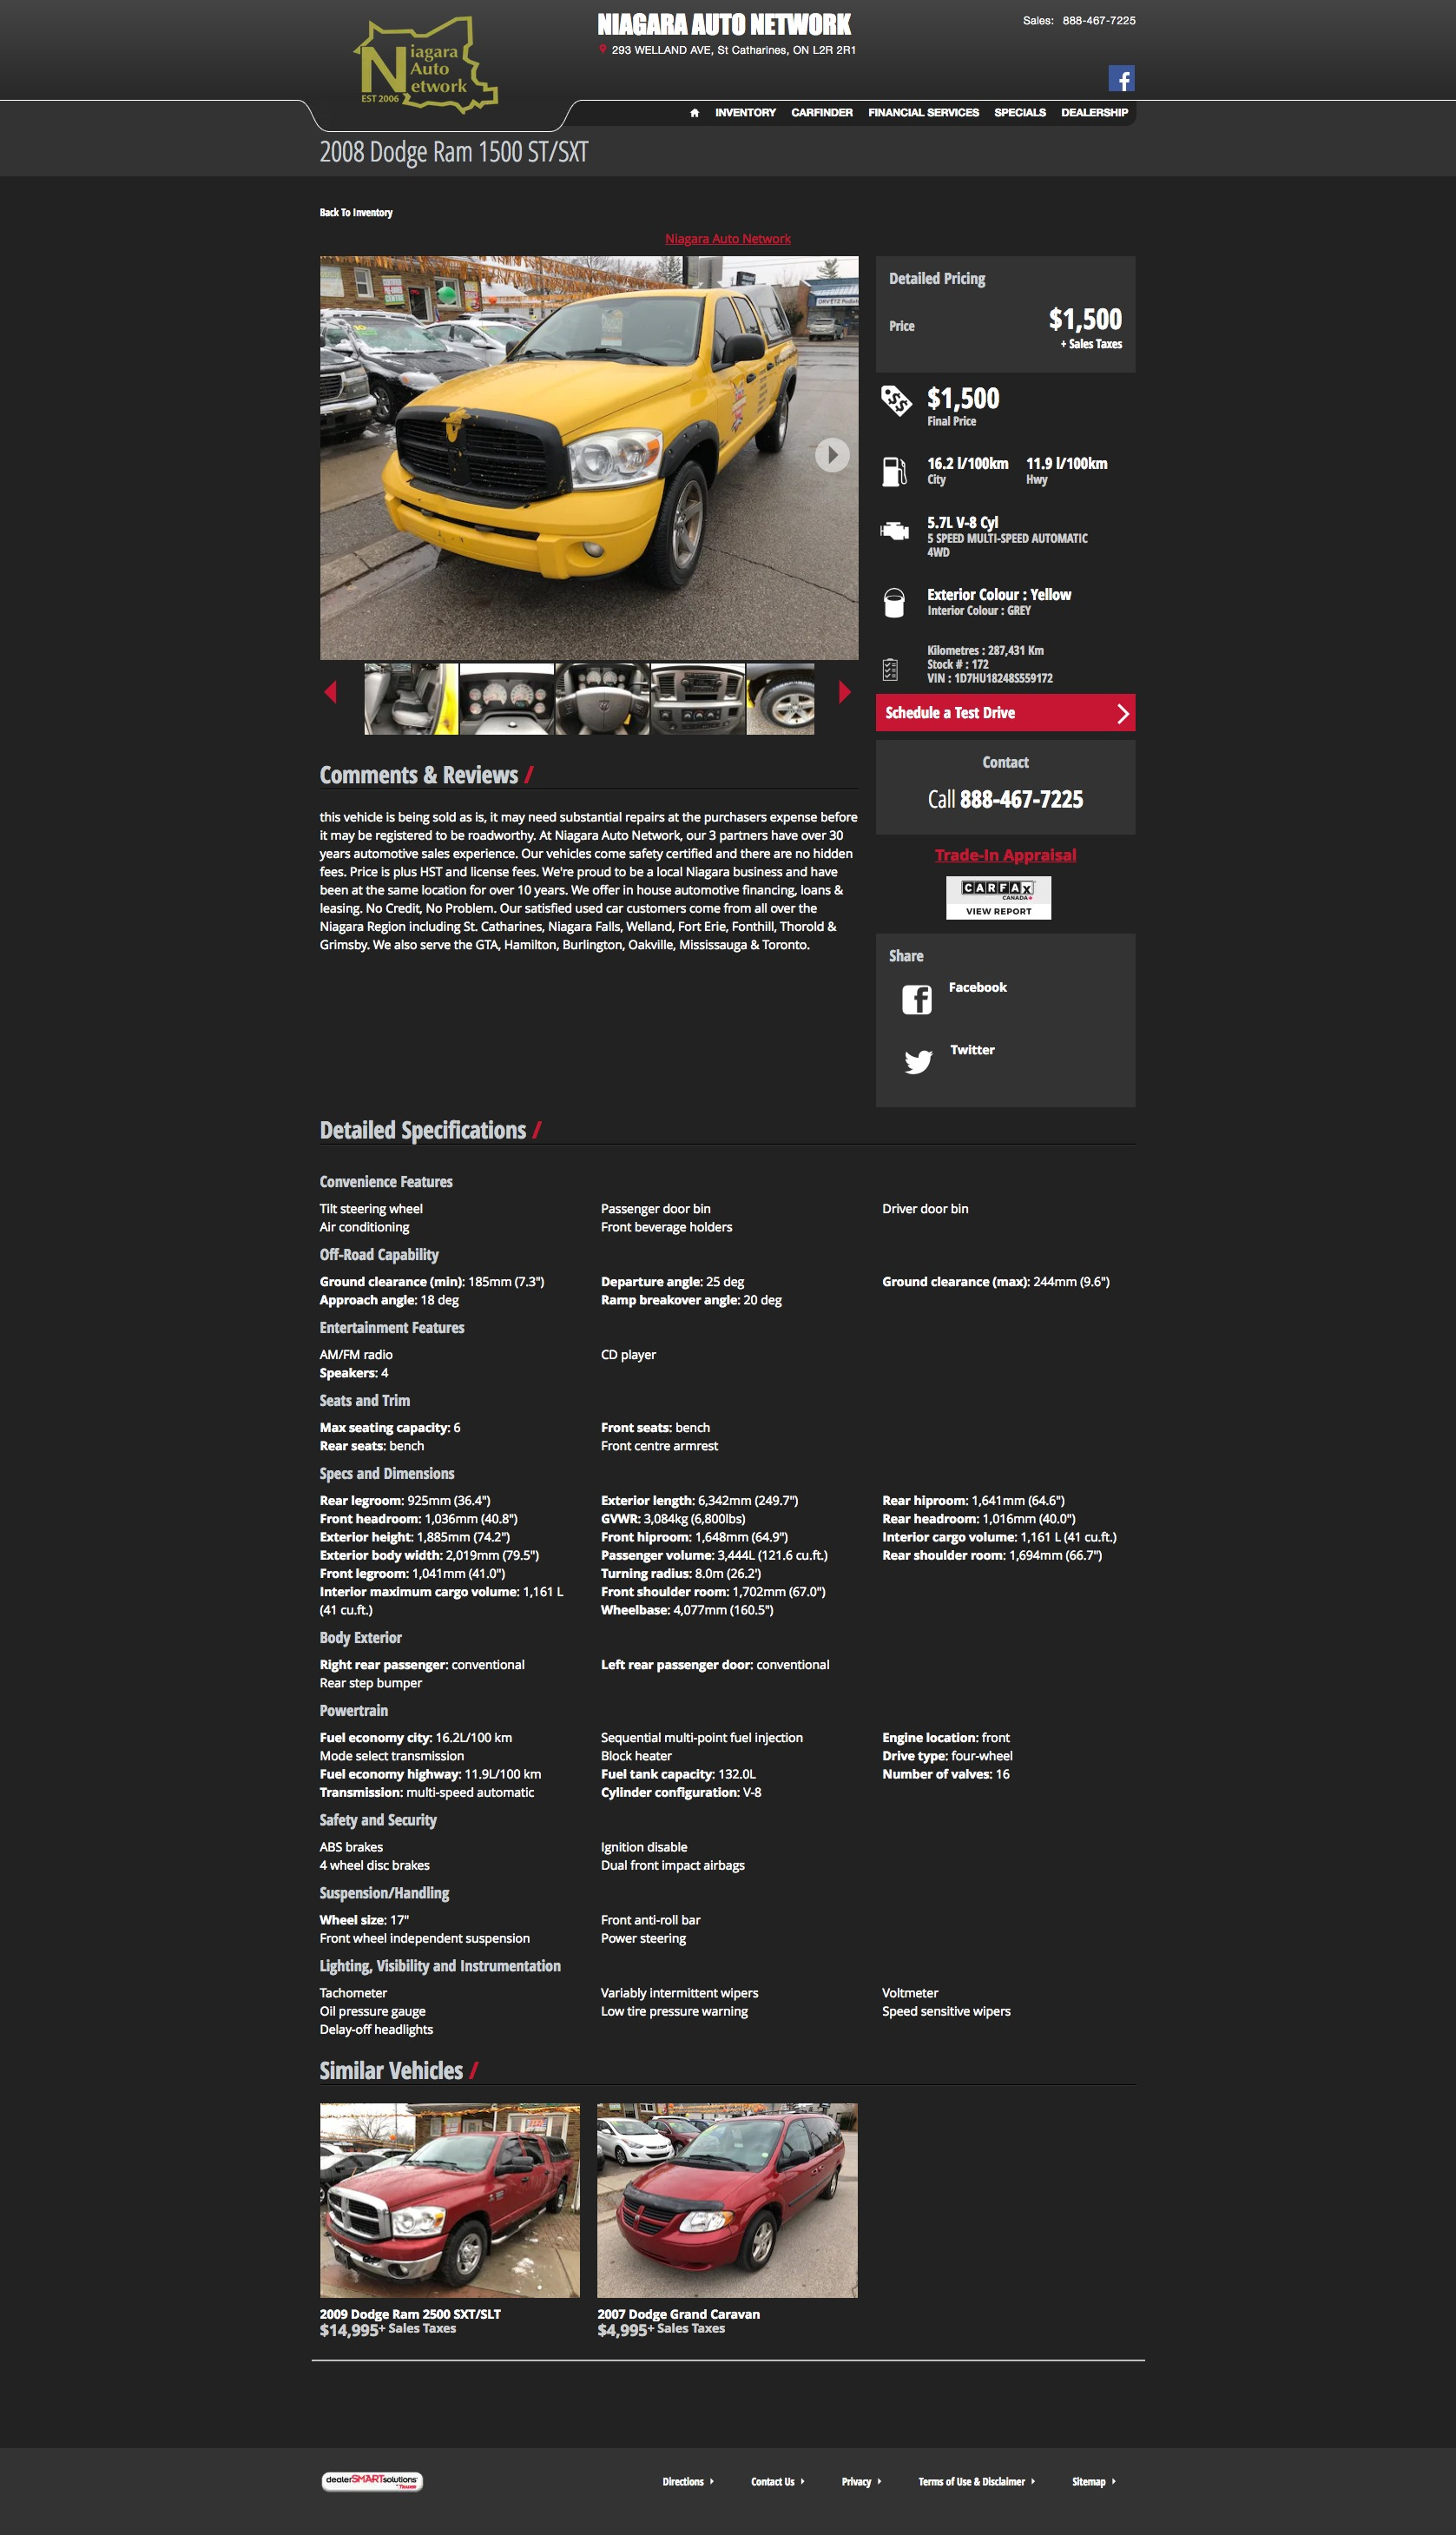car: (839, 681, 853, 705)
